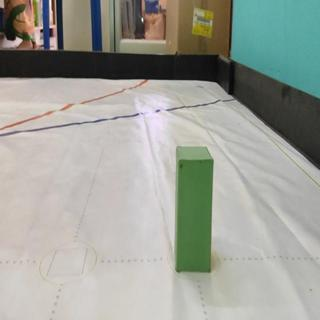greenbox: (175, 143, 215, 273)
